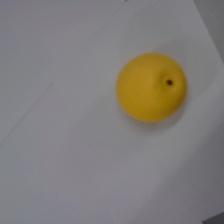yellow: (115, 51, 188, 123)
